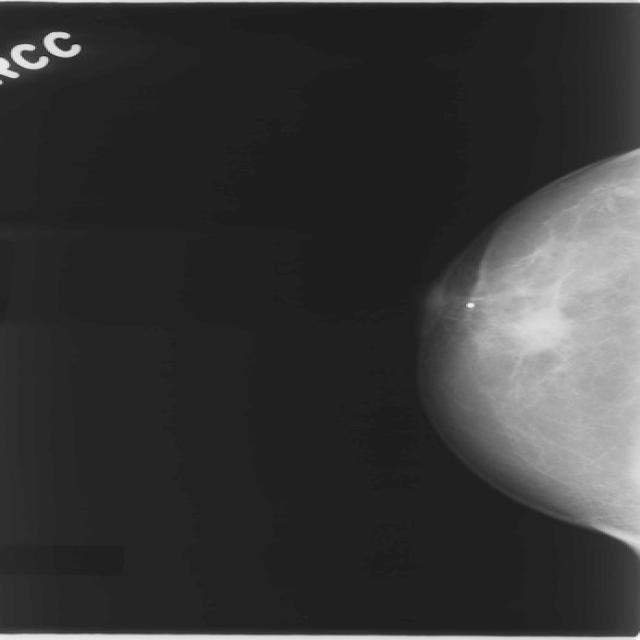tumour: (512, 307, 568, 352)
